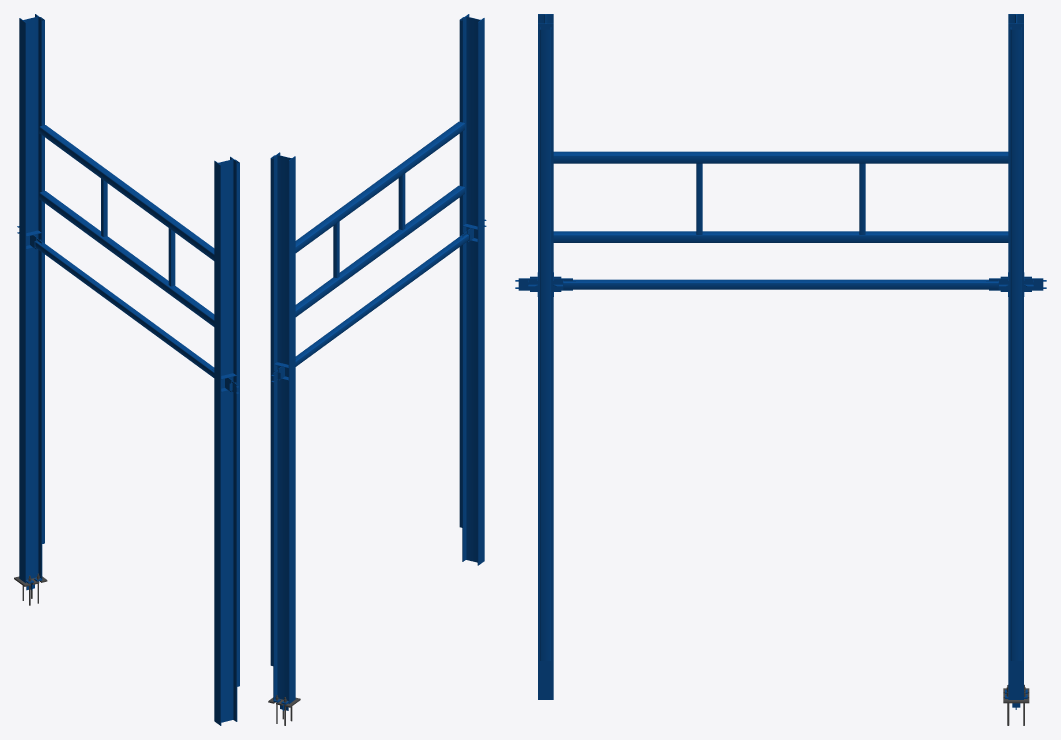
Rendered from GCC-AAV-13220-30.nwd(133).fbx.
3 views of the same model, side by side, from view 1: azimuth 30°, elevation 25°; view 2: azimuth 150°, elevation 25°; view 3: azimuth 270°, elevation 25° (orthographic). The views are drawn at different scales.
Parts seen in each view (by area): view 1: Группа фасетов (×5), GENSEC 12 of SBFRAMEWORK /13220-BD-001-212-5206/CS/KM2/B/+3., GENSEC 13 of SBFRAMEWORK /13220-BD-001-212-5206/CS/KM2/B/+3., GENSEC 8 of SBFRAMEWORK /13220-BD-001-212-5206/CS/KM2/СТ/+3., GENSEC 7 of SBFRAMEWORK /13220-BD-001-212-5206/CS/KM2/СТ/+3.; view 2: Группа фасетов (×5), GENSEC 12 of SBFRAMEWORK /13220-BD-001-212-5206/CS/KM2/B/+3., GENSEC 13 of SBFRAMEWORK /13220-BD-001-212-5206/CS/KM2/B/+3., GENSEC 8 of SBFRAMEWORK /13220-BD-001-212-5206/CS/KM2/СТ/+3., GENSEC 7 of SBFRAMEWORK /13220-BD-001-212-5206/CS/KM2/СТ/+3.; view 3: Группа фасетов (×5), GENSEC 12 of SBFRAMEWORK /13220-BD-001-212-5206/CS/KM2/B/+3., GENSEC 13 of SBFRAMEWORK /13220-BD-001-212-5206/CS/KM2/B/+3..
Part boxes in pixels (<box>): Группа фасетов (×5): <box>19,14,239,725</box>; GENSEC 12 of SBFRAMEWORK /13220-BD-001-212-5206/CS/KM2/B/+3.: <box>39,125,214,260</box>; GENSEC 13 of SBFRAMEWORK /13220-BD-001-212-5206/CS/KM2/B/+3.: <box>39,191,214,326</box>; GENSEC 8 of SBFRAMEWORK /13220-BD-001-212-5206/CS/KM2/СТ/+3.: <box>168,228,175,286</box>; GENSEC 7 of SBFRAMEWORK /13220-BD-001-212-5206/CS/KM2/СТ/+3.: <box>101,178,107,236</box>; Группа фасетов (×5): <box>270,14,484,703</box>; GENSEC 12 of SBFRAMEWORK /13220-BD-001-212-5206/CS/KM2/B/+3.: <box>295,121,464,252</box>; GENSEC 13 of SBFRAMEWORK /13220-BD-001-212-5206/CS/KM2/B/+3.: <box>295,185,464,316</box>; GENSEC 8 of SBFRAMEWORK /13220-BD-001-212-5206/CS/KM2/СТ/+3.: <box>398,173,405,230</box>; GENSEC 7 of SBFRAMEWORK /13220-BD-001-212-5206/CS/KM2/СТ/+3.: <box>333,221,339,278</box>; Группа фасетов (×5): <box>538,14,1023,699</box>; GENSEC 12 of SBFRAMEWORK /13220-BD-001-212-5206/CS/KM2/B/+3.: <box>553,151,1008,163</box>; GENSEC 13 of SBFRAMEWORK /13220-BD-001-212-5206/CS/KM2/B/+3.: <box>553,231,1008,242</box>.
Bounding box in the file's own units: 16.42 × 390 × 267.
